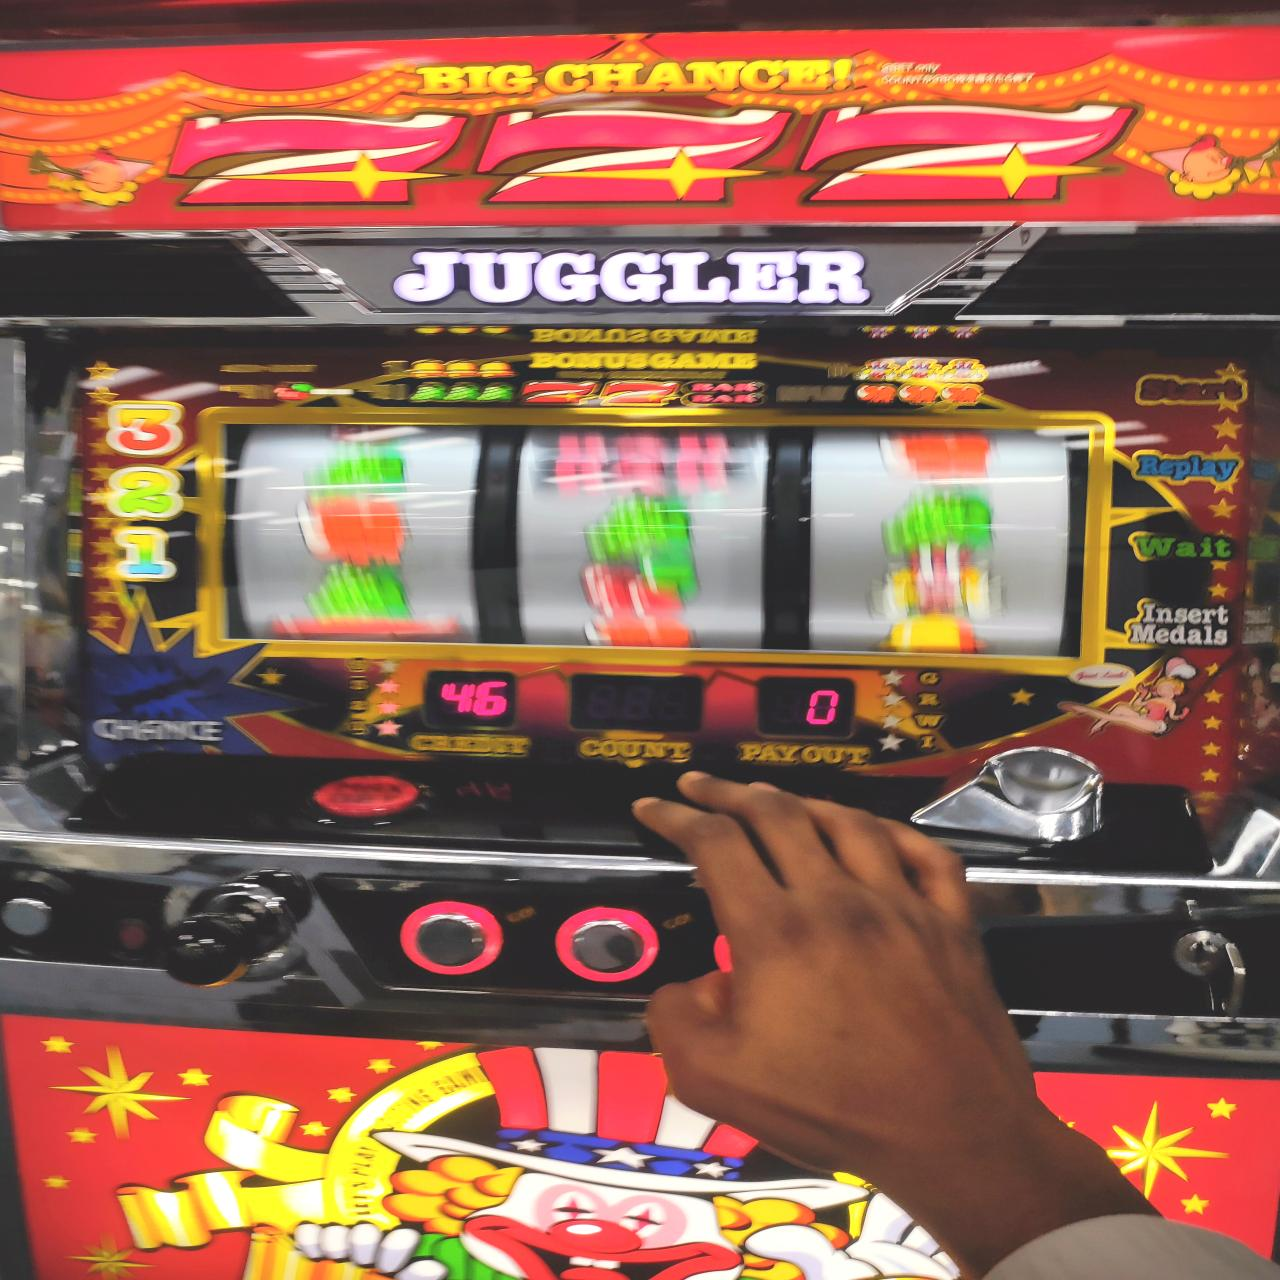rhino: (218, 418, 1102, 662)
